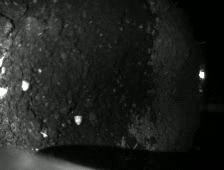corn: (71, 113, 86, 128), (20, 78, 32, 94)
